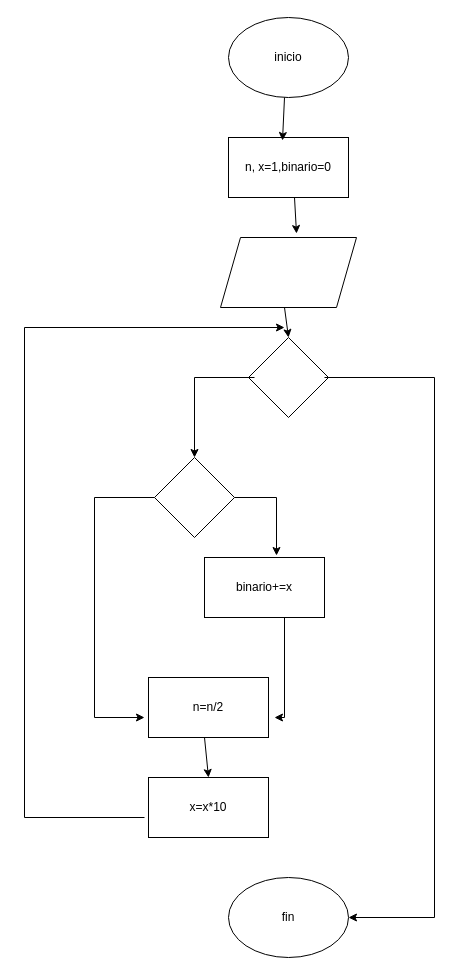
Image size: 460x975. Some labels were removed from this diagram. Each missing label, with the box of its shape:
Escribe un numero n: (220, 236, 356, 308)
n%2==1: (154, 456, 234, 538)
n>=1: (248, 336, 328, 418)
